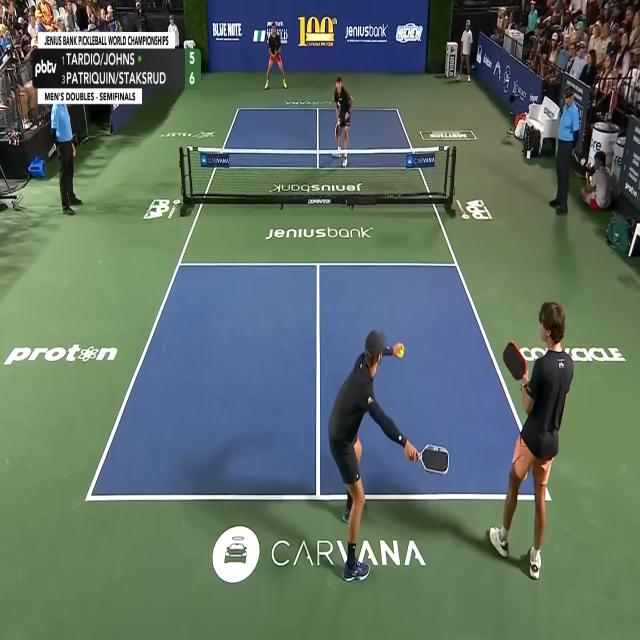ball: (400, 349, 404, 357)
